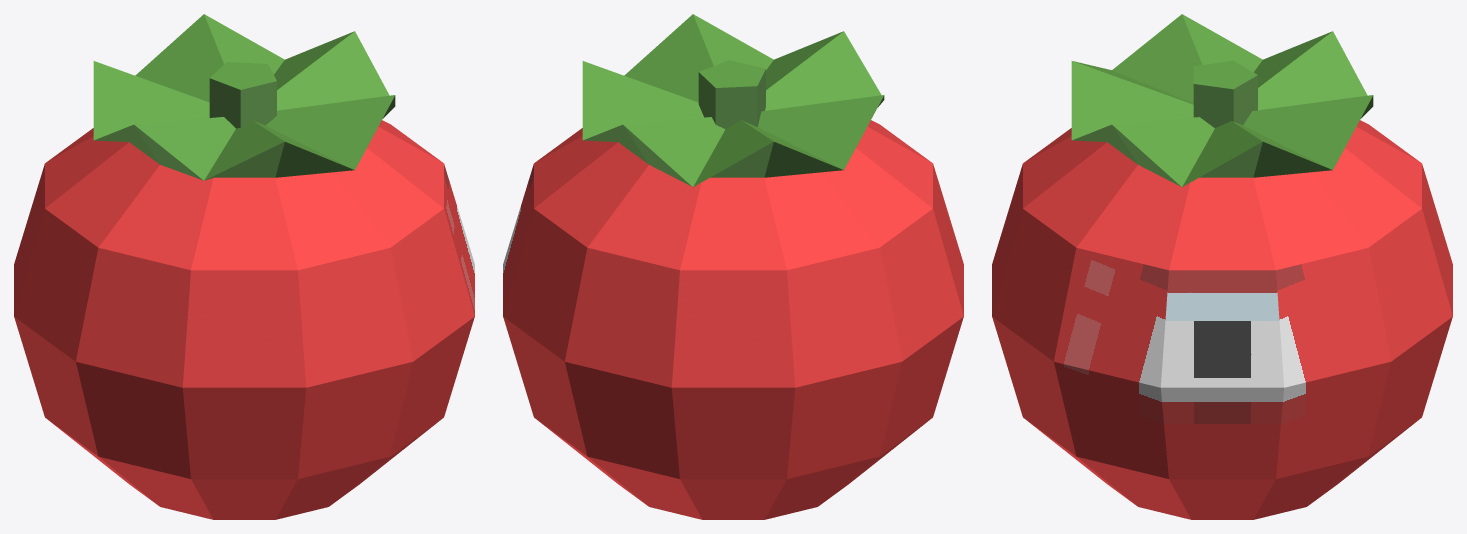
File: Tomato Model.fbx
The picture shows the model from 3 angles, left to right: view 1: azimuth 30°, elevation 25°; view 2: azimuth 150°, elevation 25°; view 3: azimuth 270°, elevation 25°; orthographic projection.
Parts seen in each view (by area): view 1: sphere; view 2: sphere; view 3: sphere.
Boxes of the visible parts, x1,y1,x2,y2 form: sphere: [14, 14, 474, 519]; sphere: [503, 14, 963, 519]; sphere: [992, 14, 1452, 519].
Size of the model in its own units: 100 by 102 by 100.
1 material, 1 textured.
